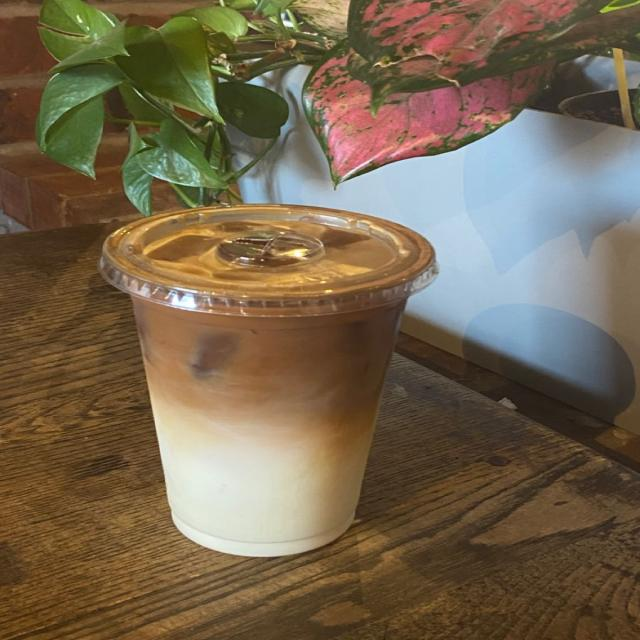plastic cup: (98, 203, 440, 557)
